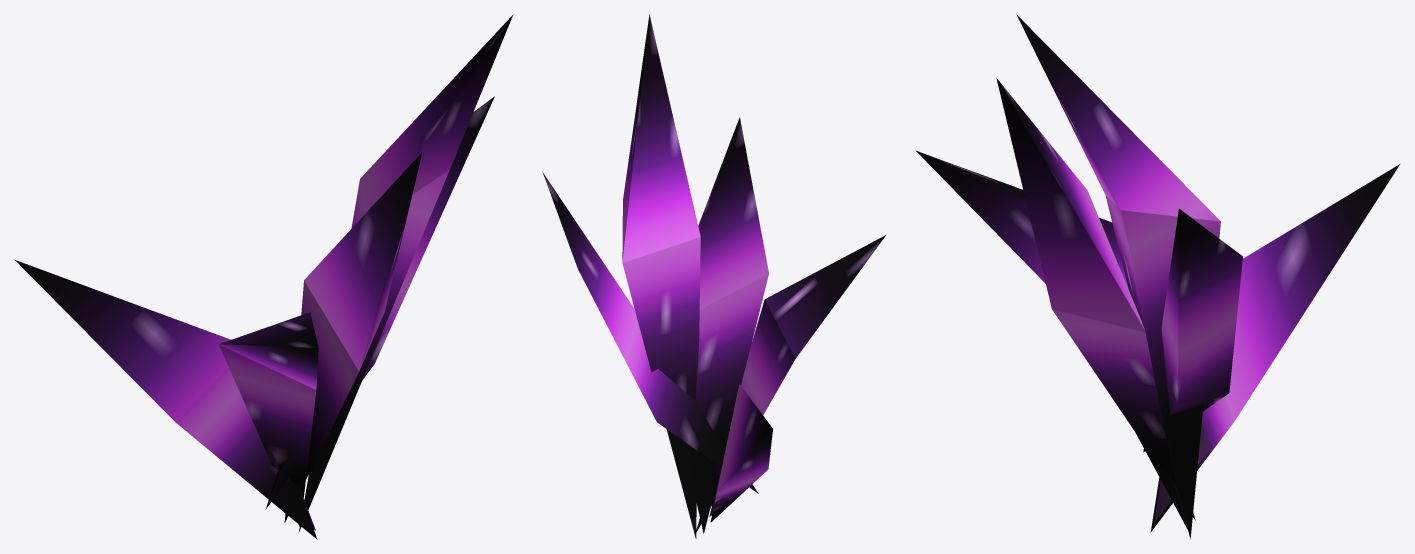
3 renders of one model, left to right at view 1: azimuth 30°, elevation 25°; view 2: azimuth 150°, elevation 25°; view 3: azimuth 270°, elevation 25°, orthographic. The views are drawn at different scales.
Parts seen in each view (by area): view 1: B_0034_1a_0; view 2: B_0034_1a_0; view 3: B_0034_1a_0, B_0034_1a_1.
Part boxes in pixels (bbox=[...]): B_0034_1a_0: bbox=[15, 14, 513, 539]; B_0034_1a_0: bbox=[542, 14, 885, 538]; B_0034_1a_0: bbox=[915, 14, 1399, 539]; B_0034_1a_1: bbox=[1142, 324, 1209, 523].
Bounding box in the file's own units: 0.8262 × 1.13 × 0.8316.
Materials: 2 (2 with a texture image).
